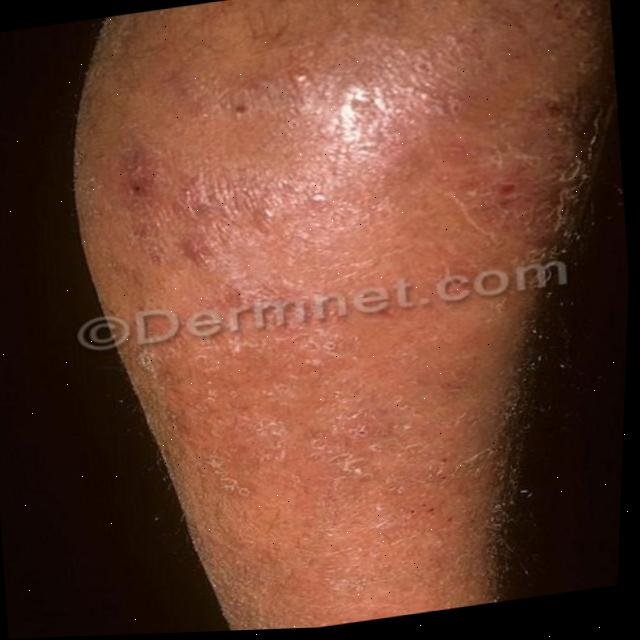Eczema: (81, 0, 640, 636)
